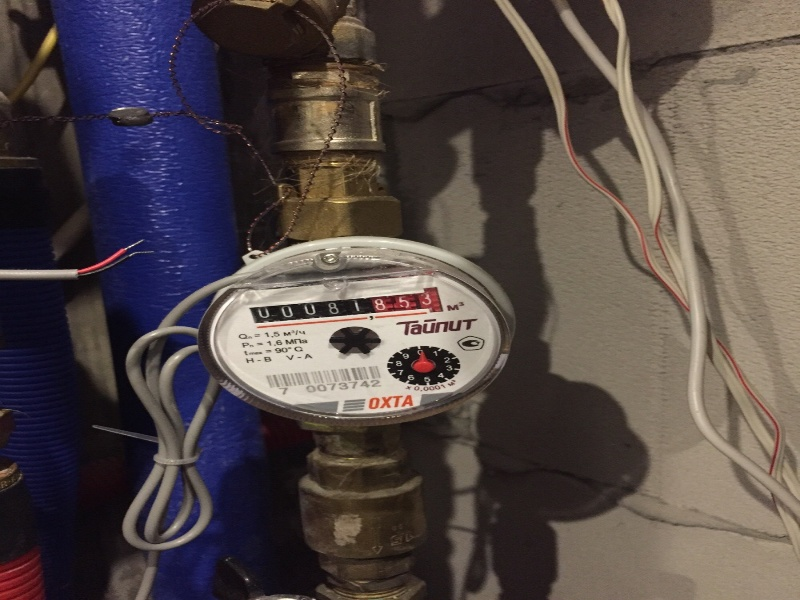meter: (246, 285, 446, 319)
